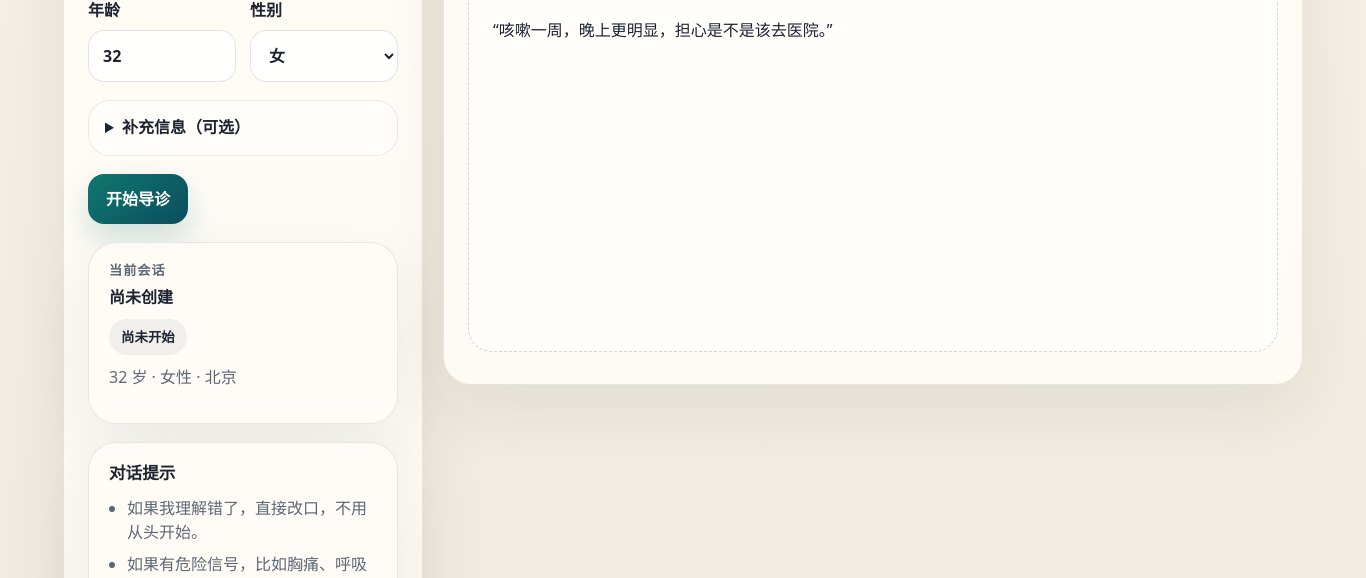
Triage view › shows the report generation action after triage completes
This screenshot has width=1366, height=578.
(page scrolled)
Step 1. Click the button "开始导诊" → (138, 199), box [88, 174, 188, 224]
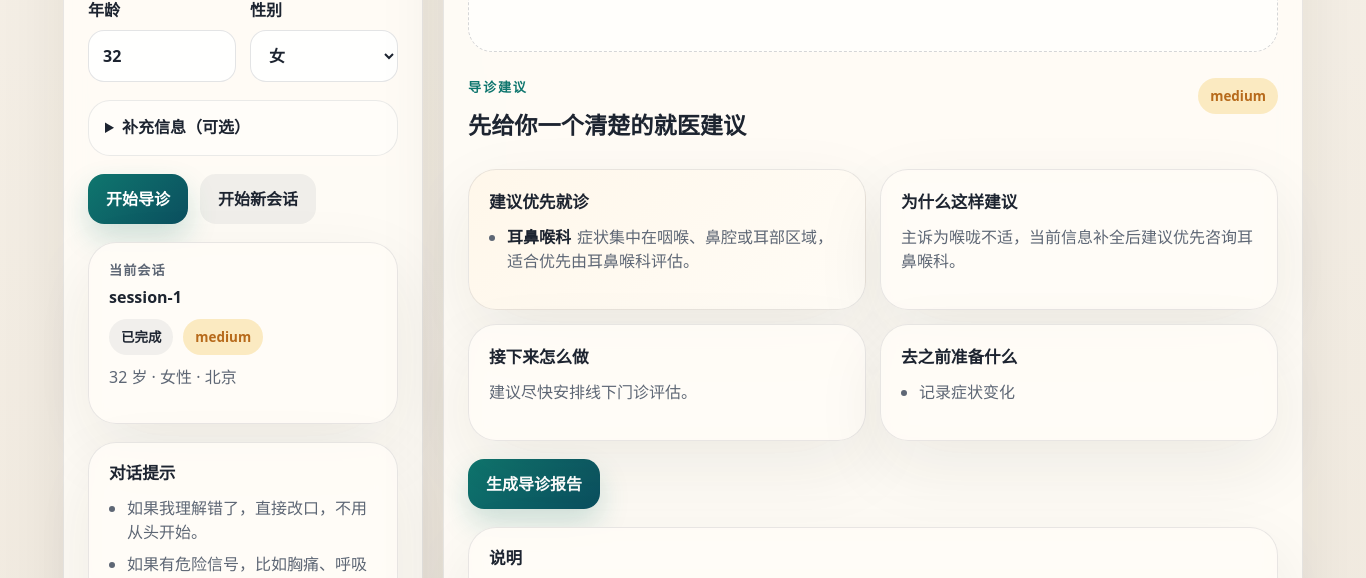
Expected: the text "生成导诊报告" is shown, [468, 459, 600, 509]
